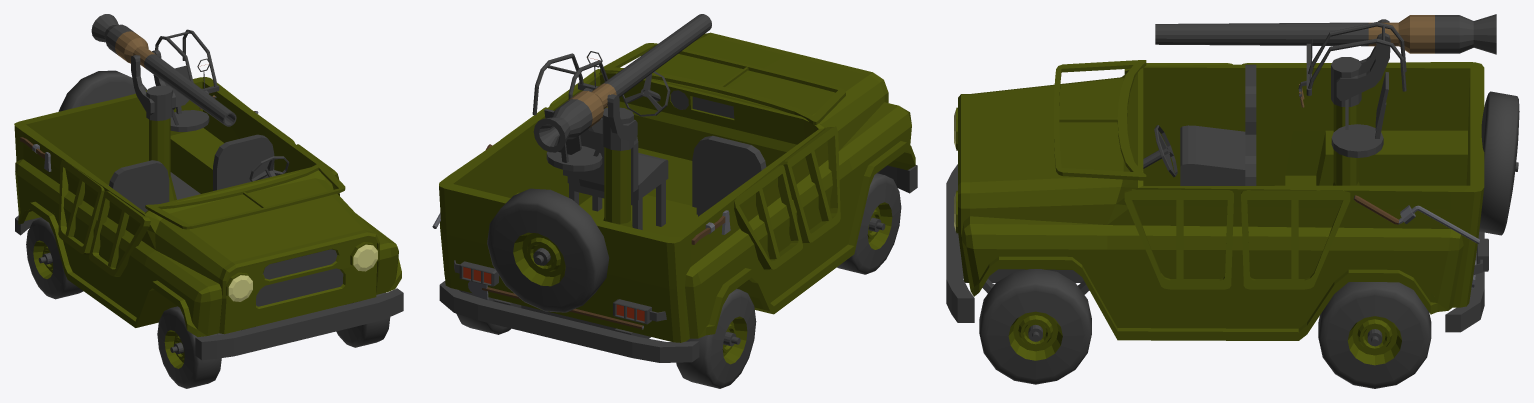
Rendered from Panzer.fbx.
3 views of the same model, side by side, from view 1: azimuth 30°, elevation 25°; view 2: azimuth 150°, elevation 25°; view 3: azimuth 270°, elevation 25° (orthographic). The views are drawn at different scales.
Visible parts, largest first — view 1: Hull, Cannon, UFRWheel, UBRWheel, Chair Left, Chair Right, UFLWheel, ZISSteering; view 2: Hull, Cannon, UBRWheel, Chair Right, Chair Left, UFRWheel, ZISSteering, UBLWheel; view 3: Hull, Cannon, UFLWheel, UBLWheel, Chair Right, ZISSteering, Chair Left.
Part boxes in pixels (x1,y1,x2,y2): Hull: [14, 70, 403, 360]; Cannon: [91, 14, 236, 131]; UFRWheel: [157, 306, 221, 388]; UBRWheel: [26, 218, 83, 299]; Chair Left: [213, 134, 274, 190]; Chair Right: [109, 160, 169, 212]; UFLWheel: [336, 292, 390, 347]; ZISSteering: [249, 156, 289, 181]; Hull: [432, 32, 917, 362]; Cannon: [532, 14, 711, 171]; UBRWheel: [676, 289, 756, 388]; Chair Right: [692, 135, 766, 216]; Chair Left: [563, 129, 668, 229]; UFRWheel: [837, 173, 901, 274]; ZISSteering: [622, 71, 670, 116]; UBLWheel: [456, 290, 510, 334]; Hull: [946, 60, 1519, 340]; Cannon: [1155, 14, 1496, 157]; UFLWheel: [979, 269, 1091, 384]; UBLWheel: [1318, 282, 1431, 388]; Chair Right: [1180, 64, 1256, 185]; ZISSteering: [1143, 125, 1177, 177]; Chair Left: [1245, 134, 1256, 185].
Bounding box in the file's own units: 157 × 252 × 152.
